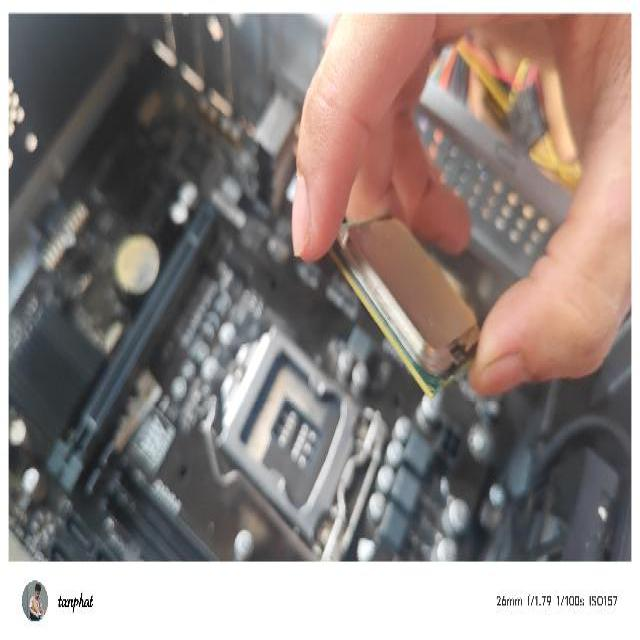CPU: (318, 207, 482, 400)
